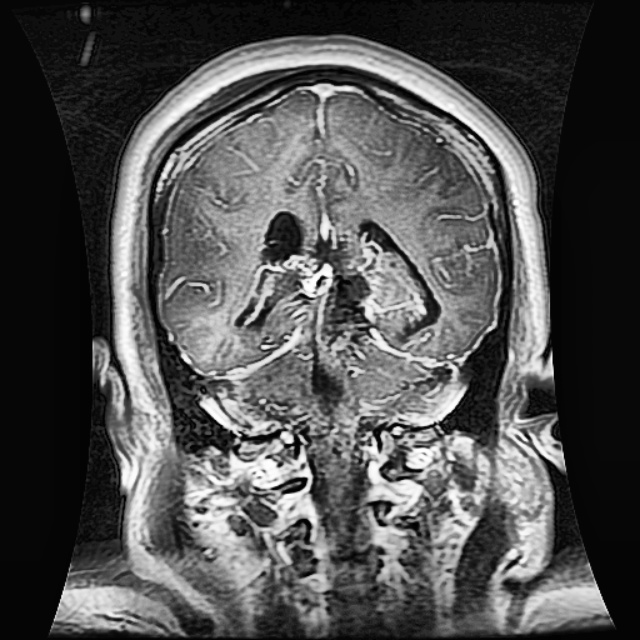Meningioma: (242, 209, 445, 364)
